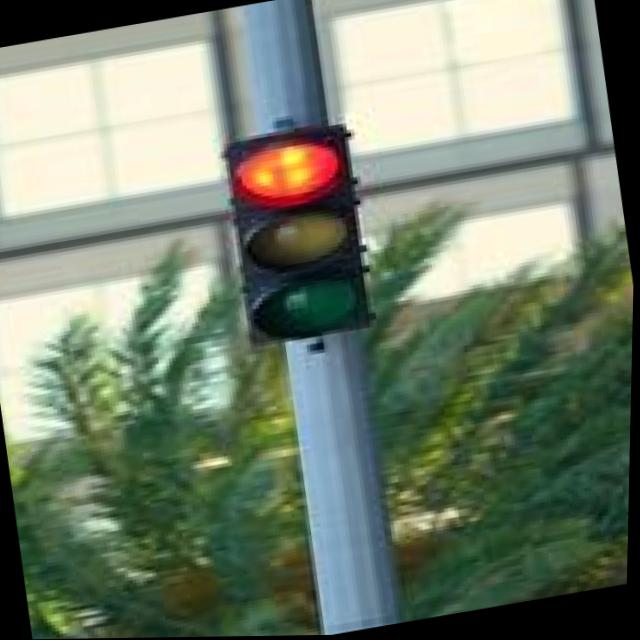red_light: (159, 62, 379, 229)
